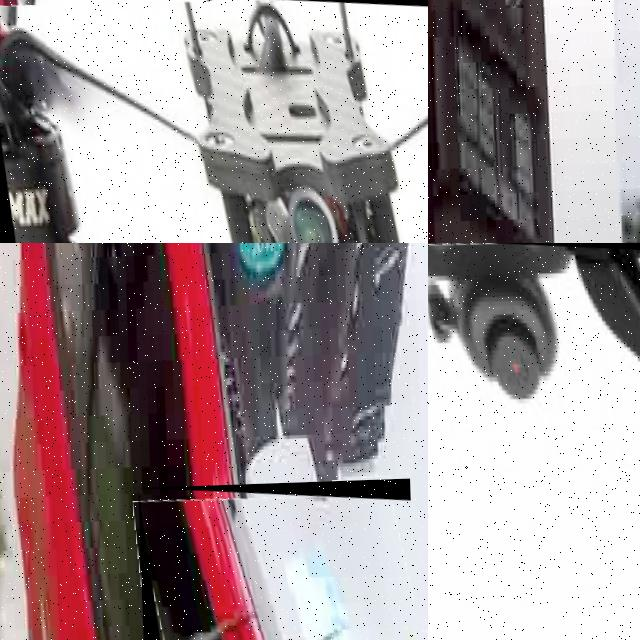drone: (0, 0, 428, 243), (428, 243, 640, 483), (138, 478, 423, 640)
